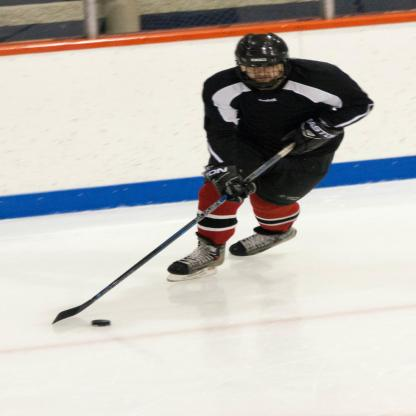Helmet: (237, 34, 300, 84)
